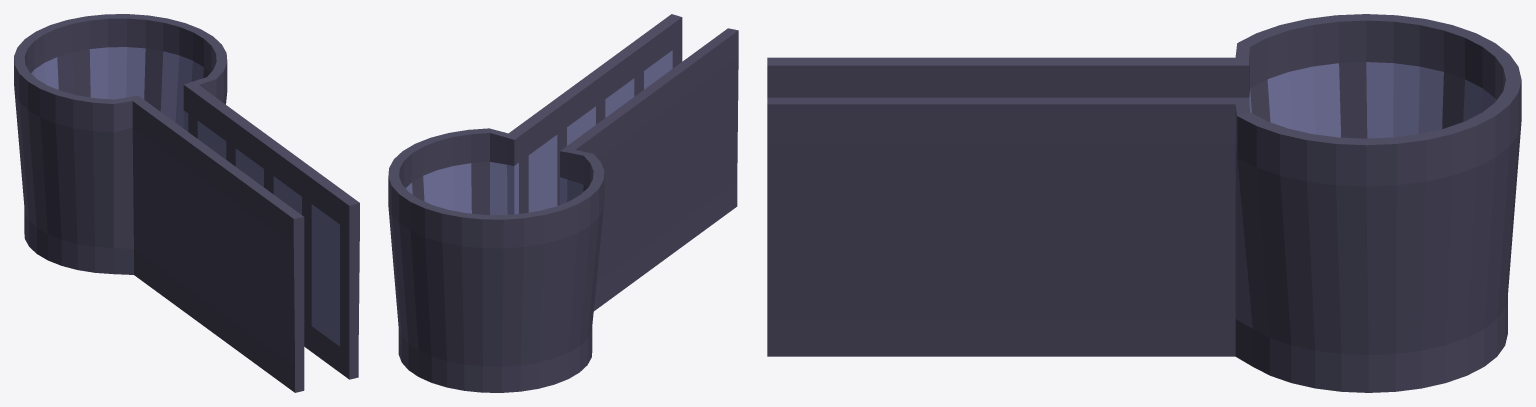
File: wallRobotBattle.fbx
The picture shows the model from 3 angles, left to right: view 1: azimuth 30°, elevation 25°; view 2: azimuth 150°, elevation 25°; view 3: azimuth 270°, elevation 25°; orthographic projection. The views are drawn at different scales.
Visible parts, largest first — view 1: Cylinder; view 2: Cylinder; view 3: Cylinder.
Part boxes in pixels (x1,y1,x2,y2): Cylinder: (14,14,359,392); Cylinder: (388,14,738,392); Cylinder: (767,14,1521,392).
Bounding box in the file's own units: 223 × 202 × 542.
